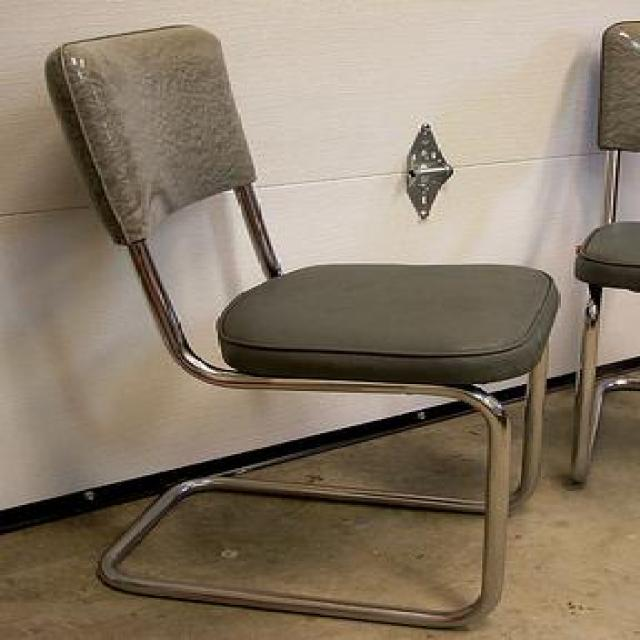chair: (42, 23, 560, 628)
